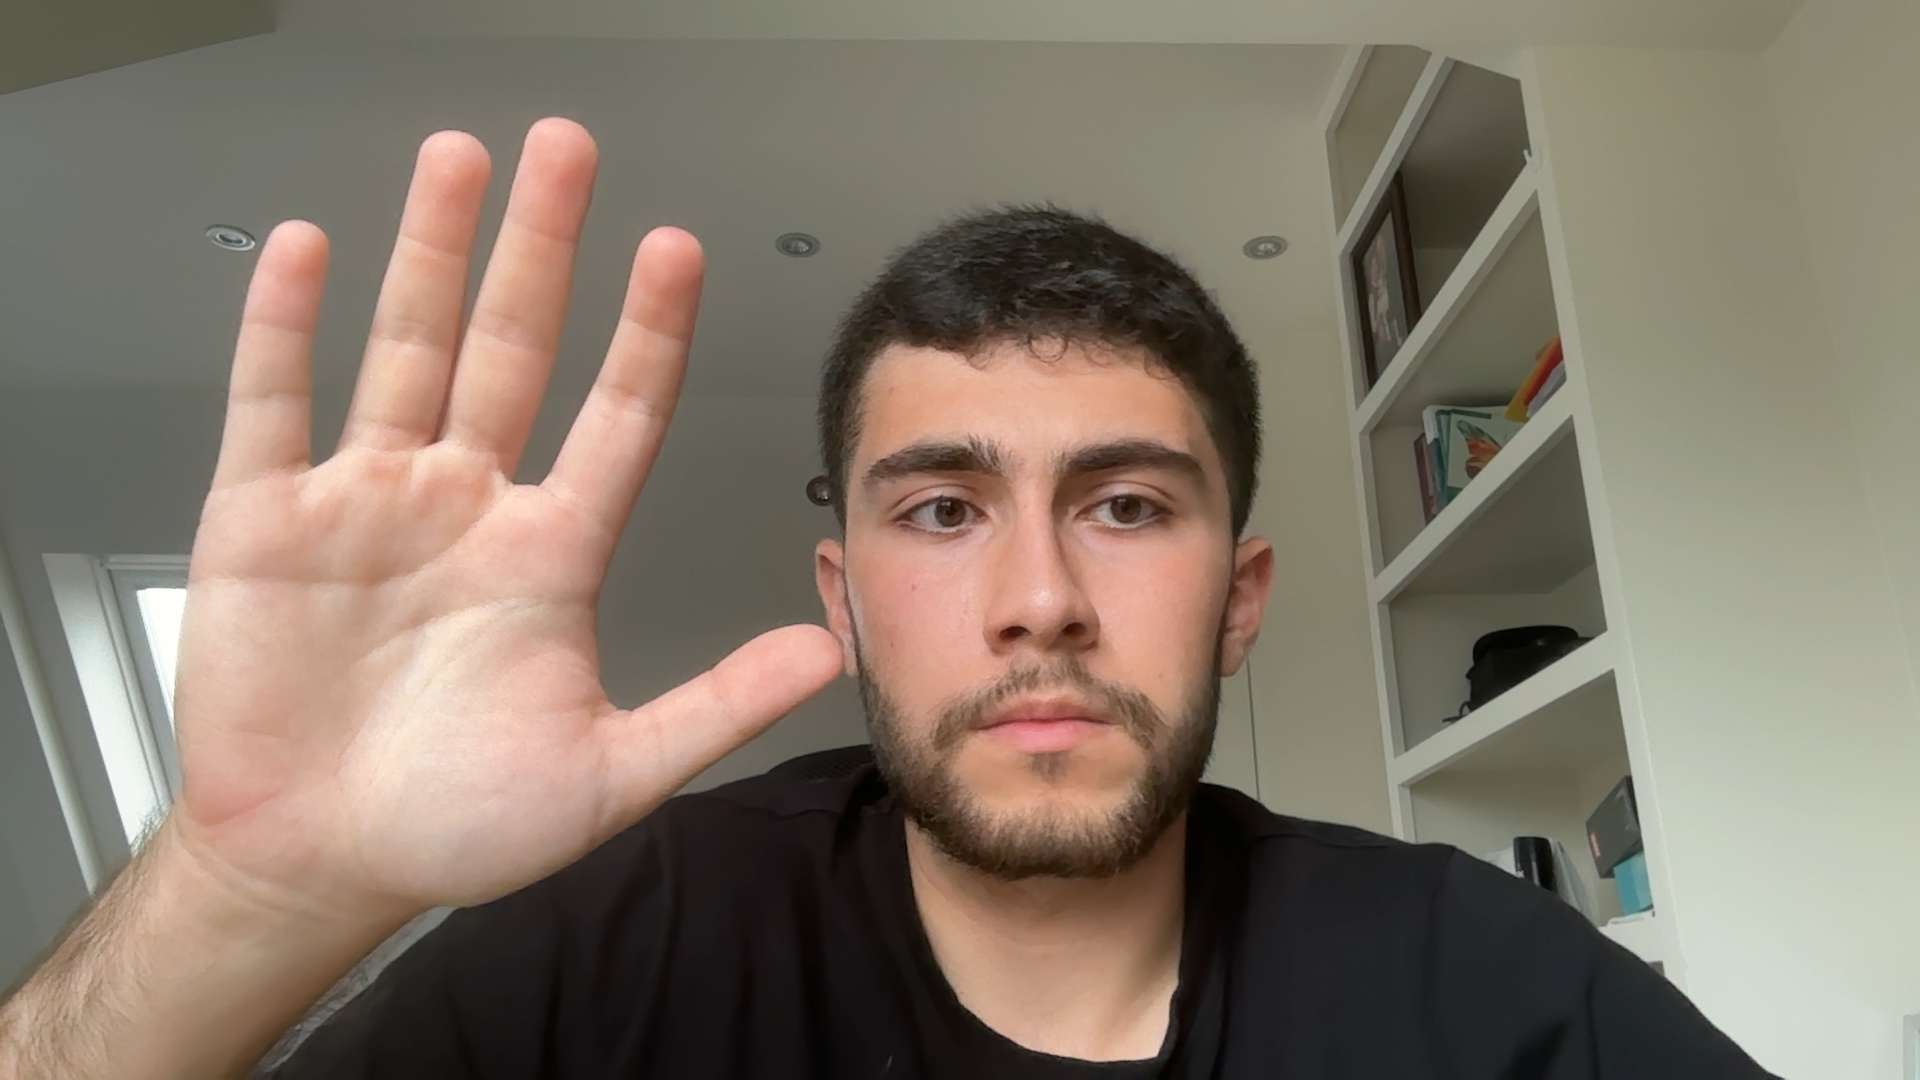Hello: (69, 70, 847, 945)
